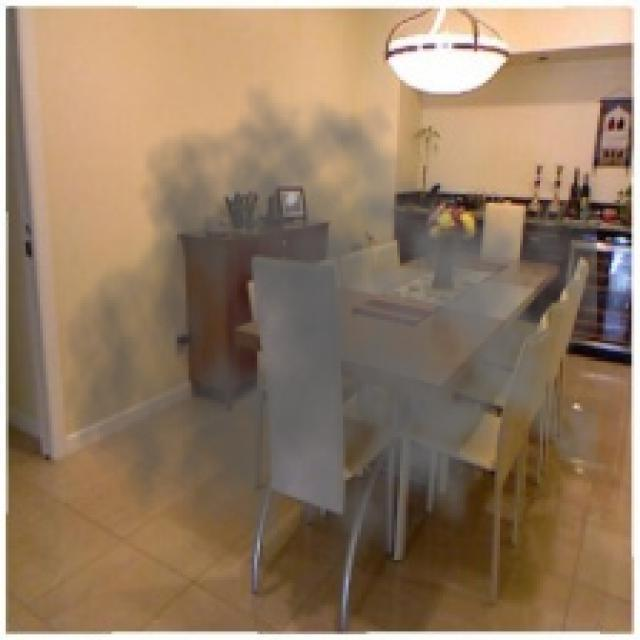Smoke: (62, 80, 598, 614)
